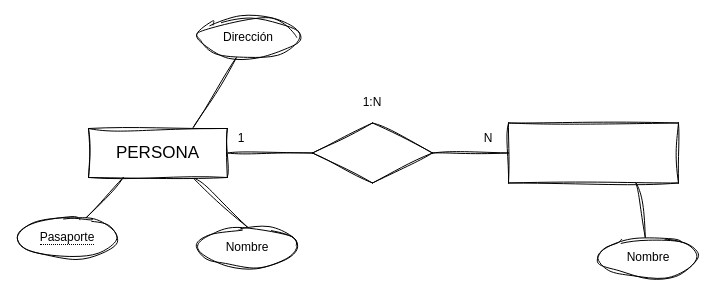
Some shapes in this 716 by 295 pixel diagram are drawn without their labels. Each missing label, with the centre of its shape:
EQUIPO: point (593, 152)
Simpatizar: point (372, 152)
